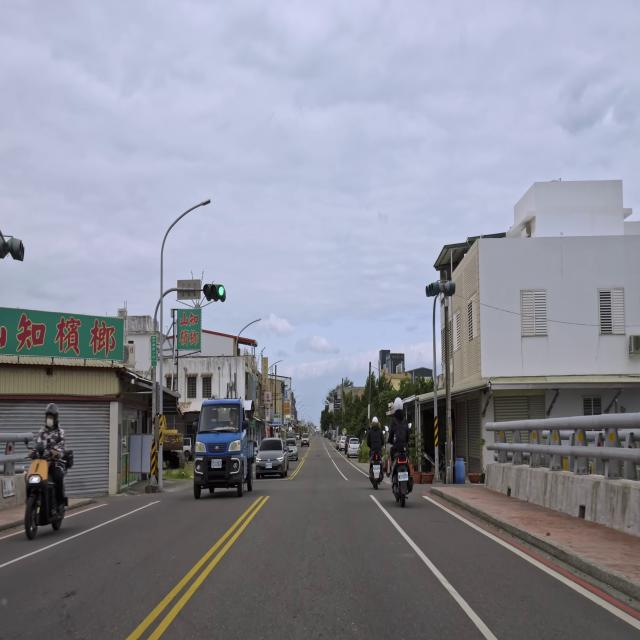green light: (202, 282, 227, 303)
